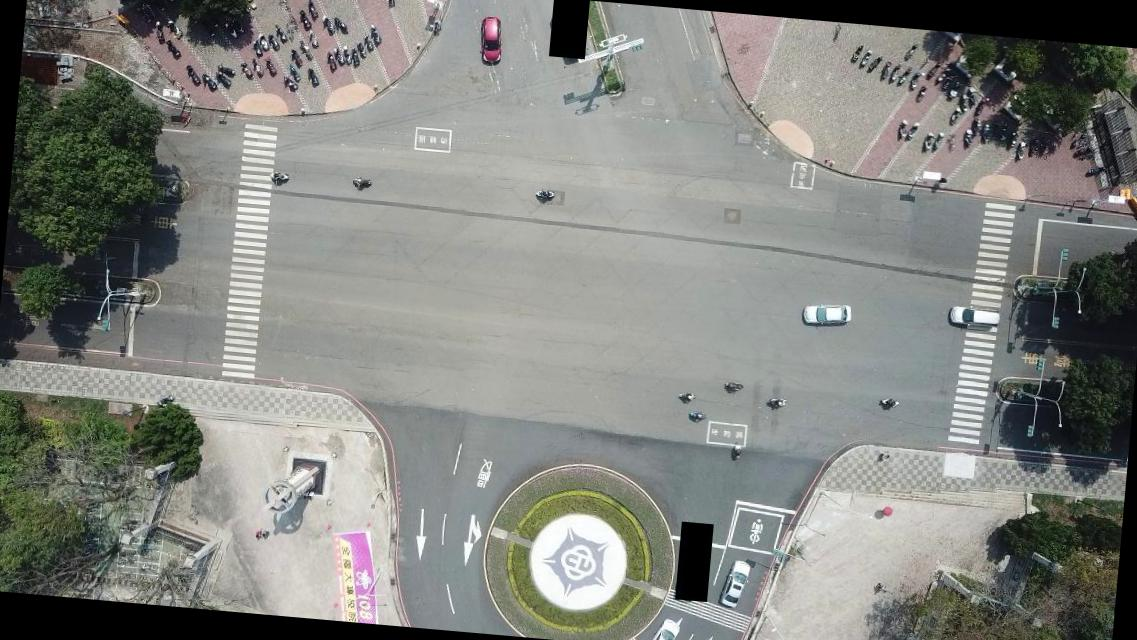vehicle: (720, 560, 749, 608), (800, 302, 852, 328), (477, 16, 503, 66), (948, 306, 1000, 328), (649, 618, 681, 639)
